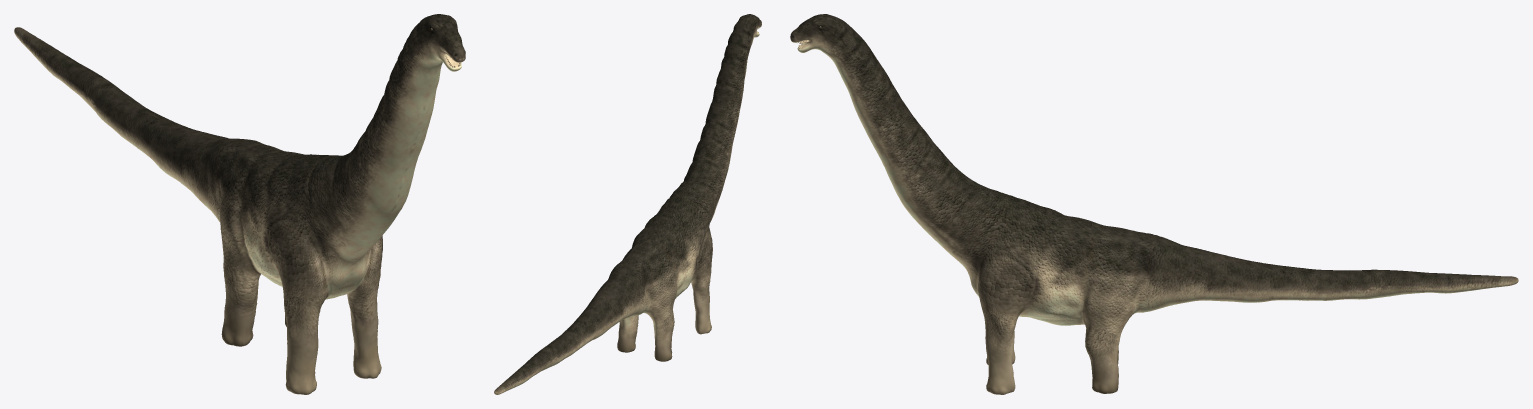
Rendered from brachiosaurus.glb.
3 renders of one model, left to right at view 1: azimuth 30°, elevation 25°; view 2: azimuth 150°, elevation 25°; view 3: azimuth 270°, elevation 25°, orthographic. The views are drawn at different scales.
Parts seen in each view (by area): view 1: Object_9; view 2: Object_9; view 3: Object_9.
Boxes of the visible parts, x1,y1,x2,y2 form: Object_9: (14,14,465,394); Object_9: (494,14,761,394); Object_9: (790,14,1518,394).
Size of the model in its own units: 2.01 by 8.92 by 16.25.
1 material, 1 textured.
